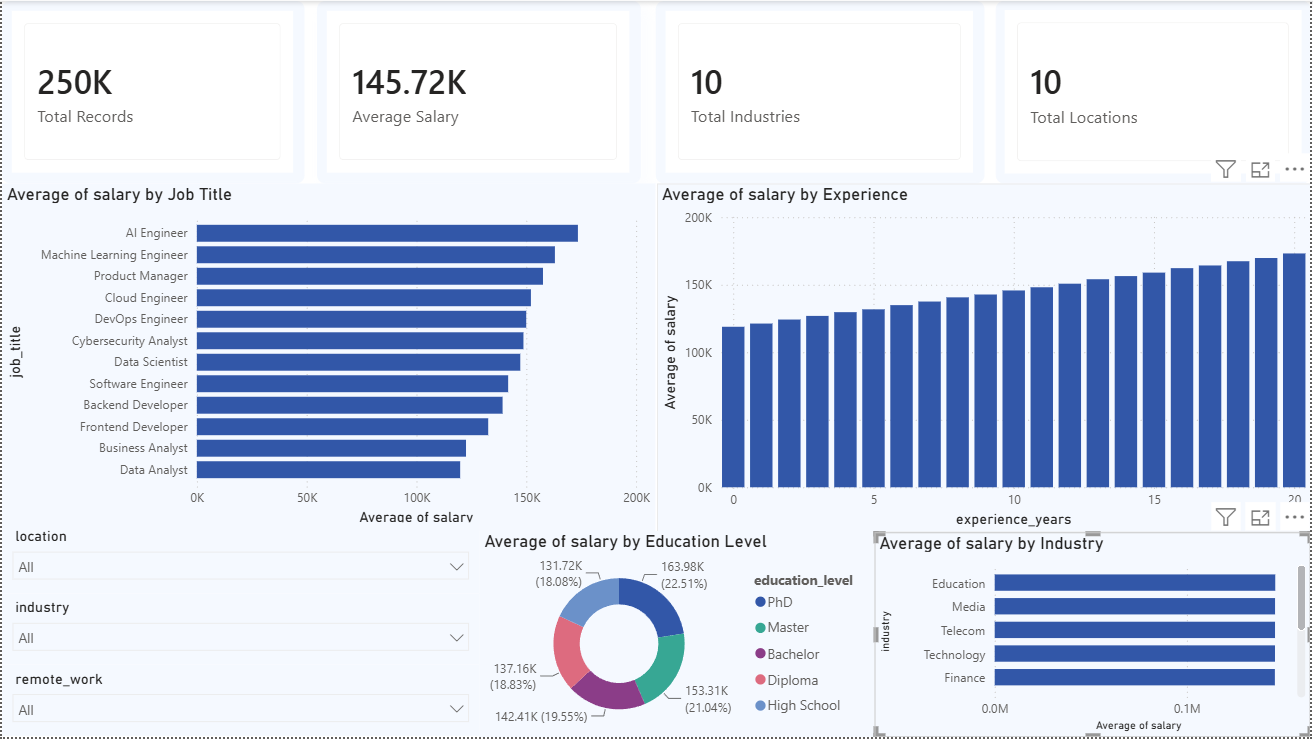

Layout of this report page (visuals, bound fields, positions):
{"tool":"powerbi","page":{"name":"Page 1","canvas":[1280,720],"ordinal":0},"visuals":[{"type":"cardVisual","fields":{"Data":["job.Total Records"]},"box":[0,0,295.9,178.5],"z":0},{"type":"cardVisual","fields":{"Data":["job.Average Salary"]},"box":[308.2,0,316.7,178.5],"z":1000},{"type":"cardVisual","fields":{"Data":["job.Total Industries"]},"box":[639.5,0,321.6,178.5],"z":2000},{"type":"cardVisual","fields":{"Data":["job.Total Locations"]},"box":[972.2,0,308.2,178.5],"z":3000},{"type":"clusteredBarChart","title":"Average of salary by Job Title","fields":{"Category":["job.job_title"],"Y":["Avg(job.salary)"]},"box":[0,178.5,639.5,339.9],"z":4000},{"type":"clusteredColumnChart","title":"Average of salary by Experience ","fields":{"Category":["job.experience_years"],"Y":["Avg(job.salary)"]},"box":[640.8,178.5,639.5,341.2],"z":5000},{"type":"slicer","fields":{"Values":["job.location"]},"box":[0,509.9,467.1,69.7],"z":6000},{"type":"slicer","fields":{"Values":["job.industry"]},"box":[0,579.6,467.1,69.7],"z":7000},{"type":"slicer","fields":{"Values":["job.remote_work"]},"box":[0,649.3,467.1,69.7],"z":8000},{"type":"donutChart","title":"Average of salary by Education Level","fields":{"Category":["job.education_level"],"Y":["Avg(job.salary)"]},"box":[467.1,518.5,386.4,201.8],"z":9000},{"type":"barChart","title":"Average of salary by Industry","fields":{"Category":["job.industry"],"Y":["Avg(job.salary)"]},"box":[853.5,519.7,426.8,200.5],"z":10000}]}

Visuals, with their boxes in screenshot pixels (x1, y1, x2, y2), scaled from the page's 1280x720 canvas onto the 1313x742 screenshot:
cardVisual - job.Total Records: BBox(0, 0, 304, 184)
cardVisual - job.Average Salary: BBox(316, 0, 641, 184)
cardVisual - job.Total Industries: BBox(656, 0, 986, 184)
cardVisual - job.Total Locations: BBox(997, 0, 1312, 184)
"Average of salary by Job Title" clusteredBarChart: BBox(0, 184, 656, 534)
"Average of salary by Experience " clusteredColumnChart: BBox(657, 184, 1312, 536)
slicer - job.location: BBox(0, 525, 479, 597)
slicer - job.industry: BBox(0, 597, 479, 669)
slicer - job.remote_work: BBox(0, 669, 479, 741)
"Average of salary by Education Level" donutChart: BBox(479, 534, 876, 741)
"Average of salary by Industry" barChart: BBox(876, 536, 1312, 741)
